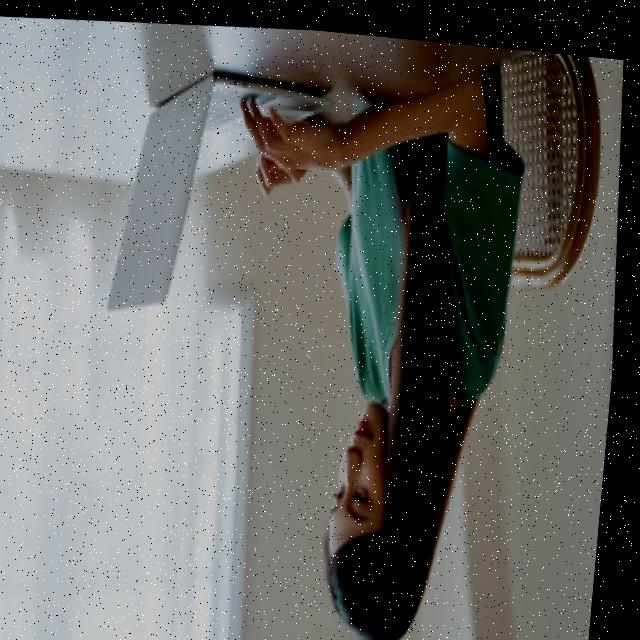notebook-person: (72, 17, 567, 640)
